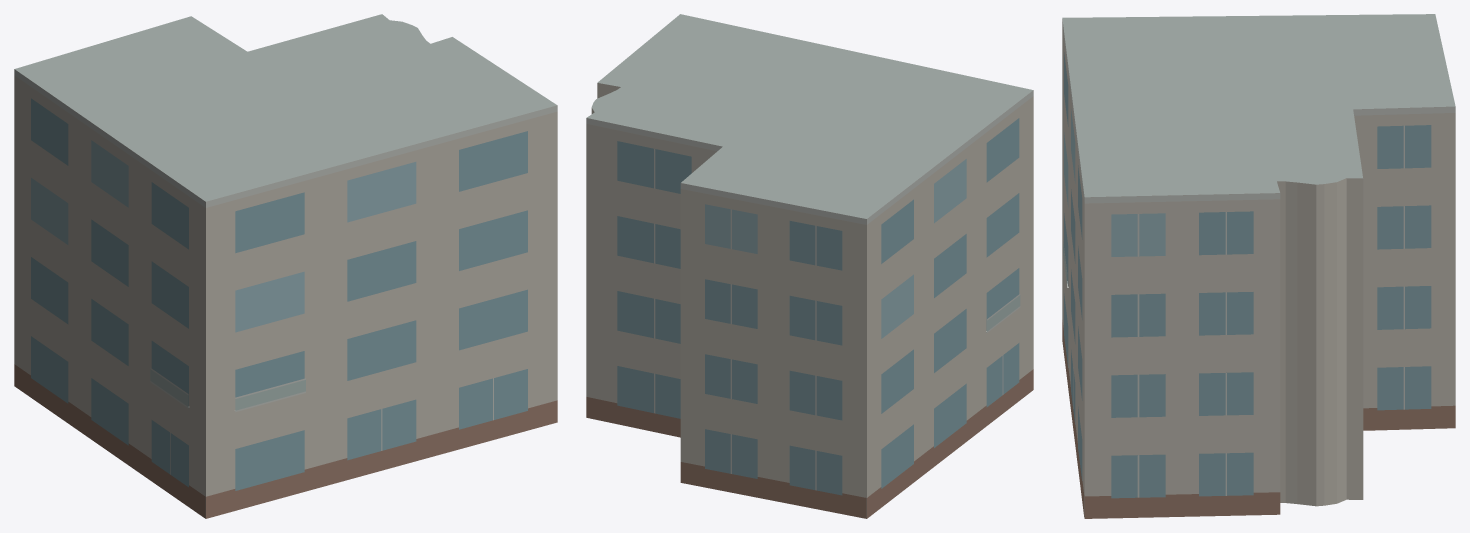
File: survey-upis-32747348.glb
3 renders of one model, left to right at view 1: azimuth 30°, elevation 25°; view 2: azimuth 150°, elevation 25°; view 3: azimuth 270°, elevation 25°, orthographic. The views are drawn at different scales.
Visible parts, largest first — view 1: survey-upis-32747348.tmp; view 2: survey-upis-32747348.tmp; view 3: survey-upis-32747348.tmp.
Part boxes in pixels (<box>): survey-upis-32747348.tmp: <box>14,14,557,518</box>; survey-upis-32747348.tmp: <box>586,14,1033,518</box>; survey-upis-32747348.tmp: <box>1062,14,1455,518</box>.
Size of the model in its own units: 15.16 by 12.4 by 13.75.
